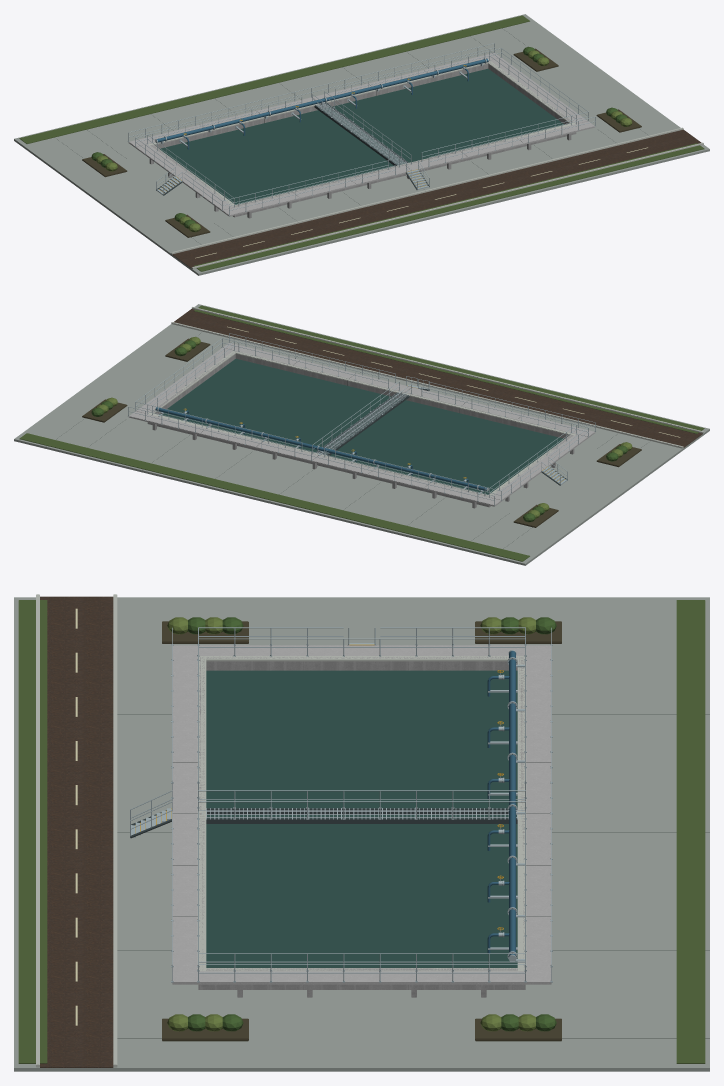
The model's file is aeration-tank.glb.
3 renders of one model, top to bottom at view 1: azimuth 30°, elevation 25°; view 2: azimuth 150°, elevation 25°; view 3: azimuth 270°, elevation 25°, orthographic. The views are drawn at different scales.
Visible parts, largest first — view 1: SITE_Hardscape, WATER_Surface, SITE_Road, SITE_PlantingBeds, ACCESS_PerimeterDeck, SAFETY_Railing, STRUCT_Wall_Long, SITE_RoadCurbs, STRUCT_Coping, SITE_PlantingBeds.001, AIR_Main, ACCESS_BridgeGrating (+6 smaller); view 2: SITE_Hardscape, WATER_Surface, SITE_Road, ACCESS_PerimeterDeck, SITE_PlantingBeds, SAFETY_Railing, STRUCT_Wall_Long, SITE_RoadCurbs, STRUCT_Coping, SITE_PlantingBeds.001, AIR_Main, ACCESS_BridgeGrating (+5 smaller); view 3: SITE_Hardscape, WATER_Surface, SITE_Road, SITE_PlantingBeds, ACCESS_PerimeterDeck, STRUCT_Coping, STRUCT_Wall_End, SAFETY_Railing, SITE_PlantingBeds.001, SITE_RoadCurbs, ACCESS_BridgeBeams, SITE_Shrubs (+5 smaller).
Part boxes in pixels (x1,y1,x2,y2): SITE_Hardscape: [14, 14, 709, 275]; WATER_Surface: [159, 68, 564, 204]; SITE_Road: [172, 129, 701, 268]; SITE_PlantingBeds: [19, 15, 704, 271]; ACCESS_PerimeterDeck: [128, 52, 595, 216]; SAFETY_Railing: [128, 43, 595, 215]; STRUCT_Wall_Long: [148, 60, 576, 217]; SITE_RoadCurbs: [171, 127, 703, 269]; STRUCT_Coping: [148, 61, 575, 207]; SITE_PlantingBeds.001: [82, 48, 641, 237]; AIR_Main: [157, 58, 488, 142]; ACCESS_BridgeGrating: [314, 102, 408, 166]; SITE_Hardscape: [14, 304, 709, 565]; WATER_Surface: [159, 358, 564, 494]; SITE_Road: [174, 309, 702, 447]; ACCESS_PerimeterDeck: [128, 342, 595, 506]; SITE_PlantingBeds: [19, 305, 704, 561]; SAFETY_Railing: [128, 333, 595, 505]; STRUCT_Wall_Long: [147, 351, 575, 507]; SITE_RoadCurbs: [171, 307, 703, 448]; STRUCT_Coping: [148, 350, 575, 497]; SITE_PlantingBeds.001: [82, 338, 641, 527]; AIR_Main: [156, 407, 486, 490]; ACCESS_BridgeGrating: [315, 391, 409, 456]; SITE_Hardscape: [14, 597, 709, 1071]; WATER_Surface: [206, 670, 517, 967]; SITE_Road: [40, 596, 113, 1067]; SITE_PlantingBeds: [18, 600, 705, 1063]; ACCESS_PerimeterDeck: [172, 645, 551, 984]; STRUCT_Coping: [197, 656, 526, 971]; STRUCT_Wall_End: [205, 656, 518, 989]; SAFETY_Railing: [172, 627, 551, 981]; SITE_PlantingBeds.001: [162, 621, 561, 1041]; SITE_RoadCurbs: [36, 594, 117, 1067]; ACCESS_BridgeBeams: [206, 808, 517, 823]; SITE_Shrubs: [167, 617, 535, 1031].
Size of the model in its own units: 64 by 7.13 by 40.
Materials: 18 (4 with a texture image).
